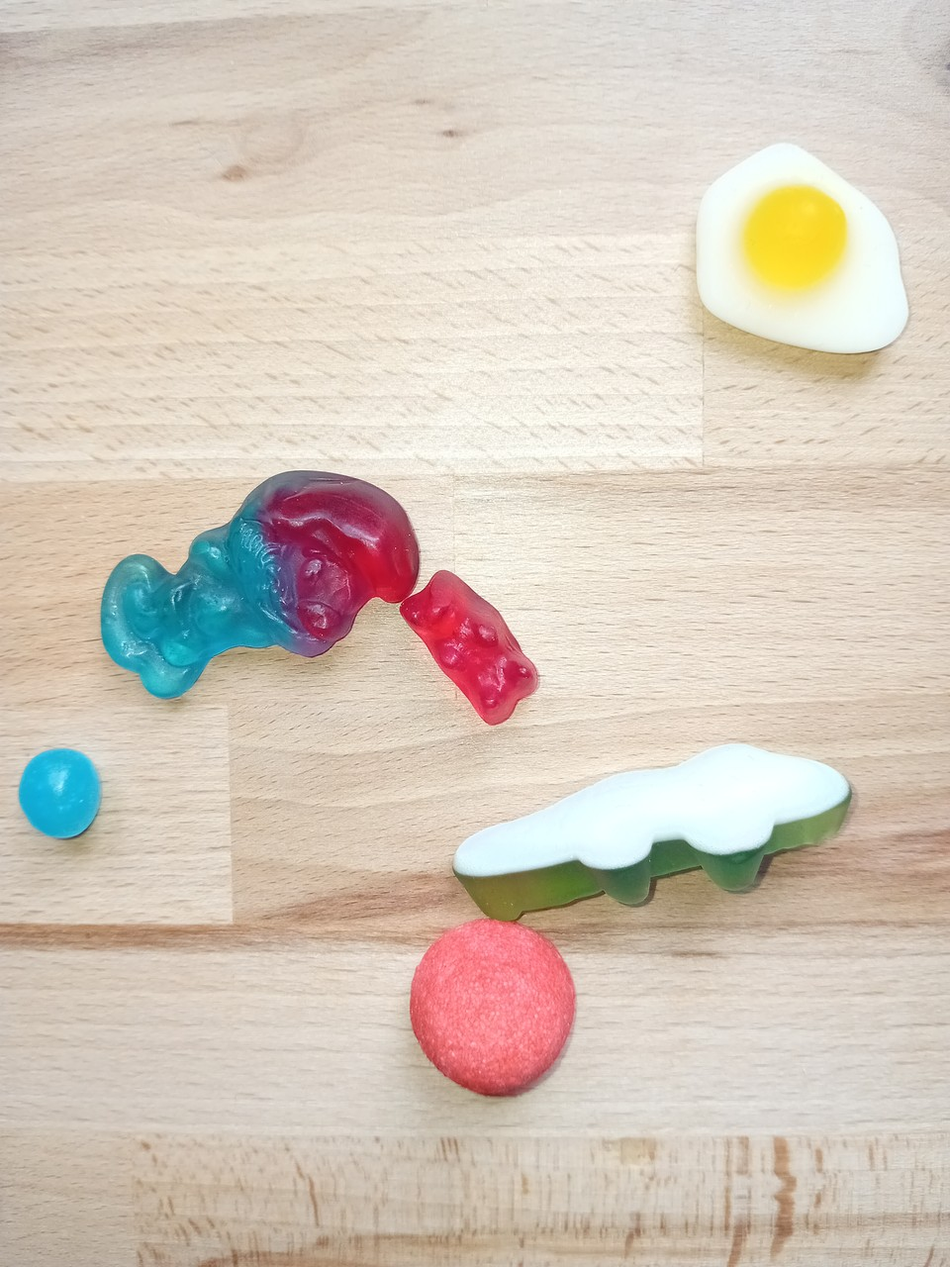crocodile_vert: (450, 740, 853, 930)
dragibus_bleu: (16, 743, 104, 842)
oeuf_oeuf: (689, 139, 919, 362)
ourson_rouge: (398, 569, 545, 732)
schtroumpf_bleu-rouge: (94, 463, 421, 707)
tagada_fraise: (405, 918, 581, 1098)
